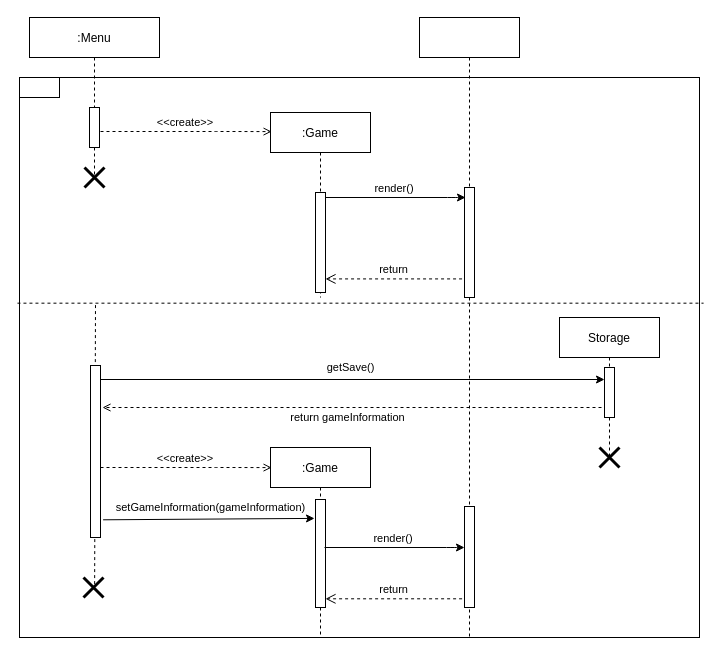
The diagram is 723 pixels wide and 655 high, and some of its shapes have lost their labels. The shapes that lost their labels are listed below. From the top down, each one's centre as x and y in pixels, then its label:
the point at 39,87: Alt
the point at 469,327: :Map
